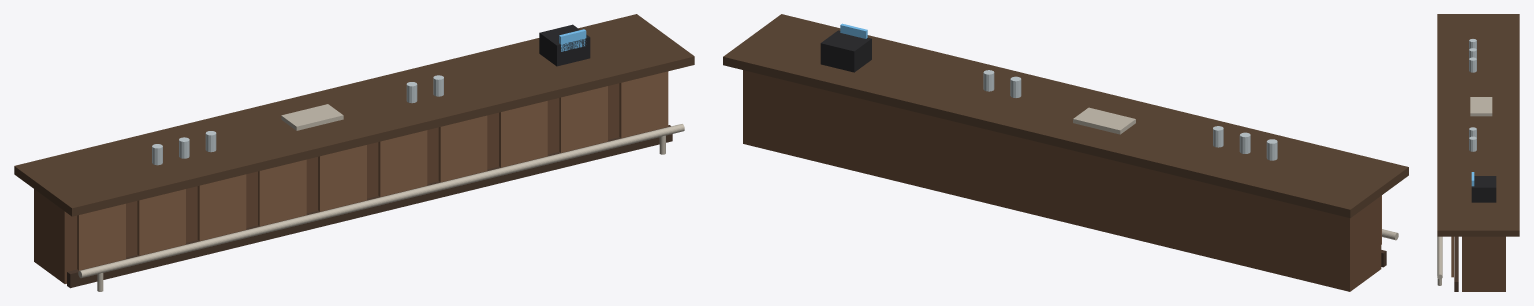
The model's file is BarCounter.fbx.
3 renders of one model, left to right at view 1: azimuth 30°, elevation 25°; view 2: azimuth 150°, elevation 25°; view 3: azimuth 270°, elevation 25°, orthographic. The views are drawn at different scales.
Parts seen in each view (by area): view 1: BarCounter; view 2: BarCounter; view 3: BarCounter.
Boxes of the visible parts, x1,y1,x2,y2 form: BarCounter: (14,14,694,291); BarCounter: (723,14,1408,291); BarCounter: (1437,14,1519,291).
Size of the model in its own units: 9.3 by 1.71 by 1.5.
